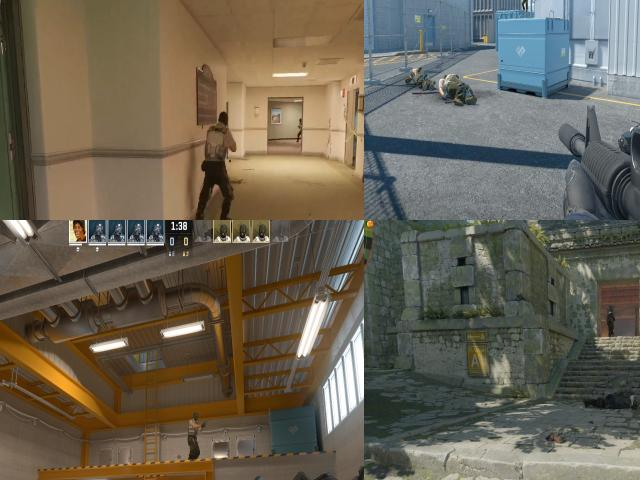CT: (604, 306, 616, 345)
CT-Head: (608, 308, 613, 316)
Dead: (580, 385, 640, 409), (444, 71, 480, 102), (436, 79, 465, 108), (405, 66, 435, 91)
T: (202, 107, 235, 173), (188, 413, 202, 459), (521, 0, 528, 9)
T-Head: (214, 108, 232, 134), (191, 412, 199, 423)
